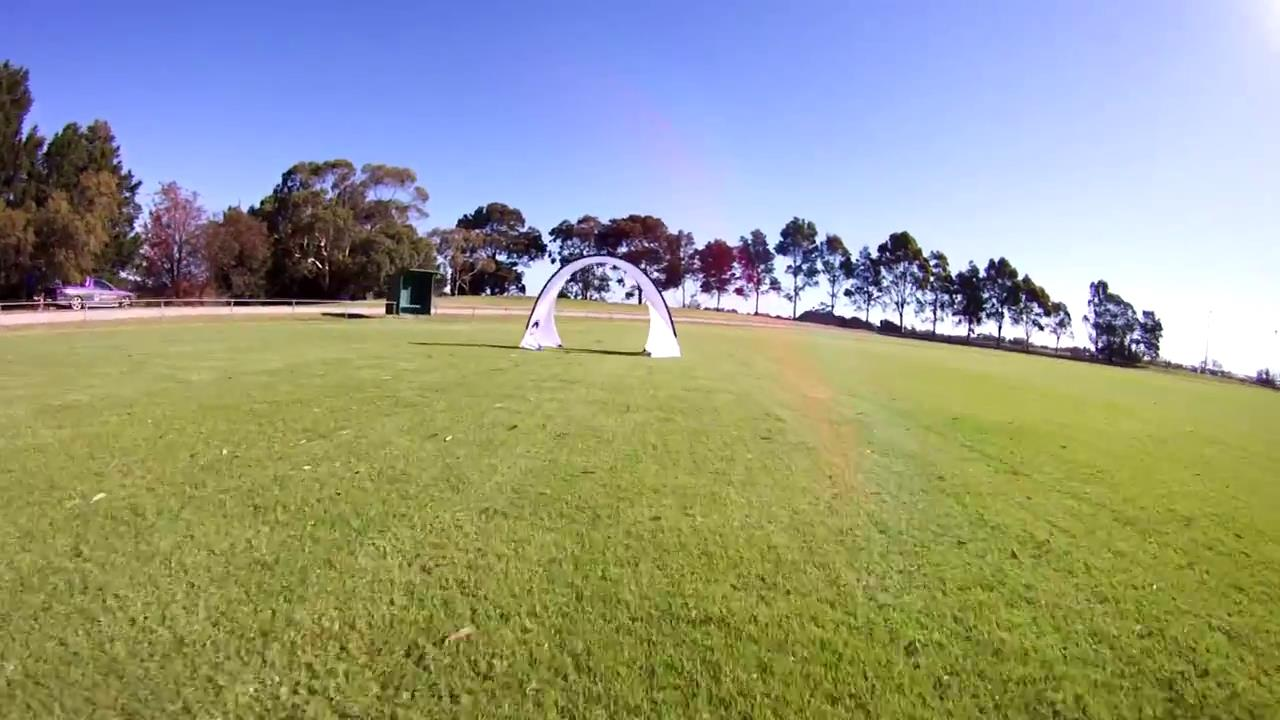gate: (515, 253, 689, 360)
